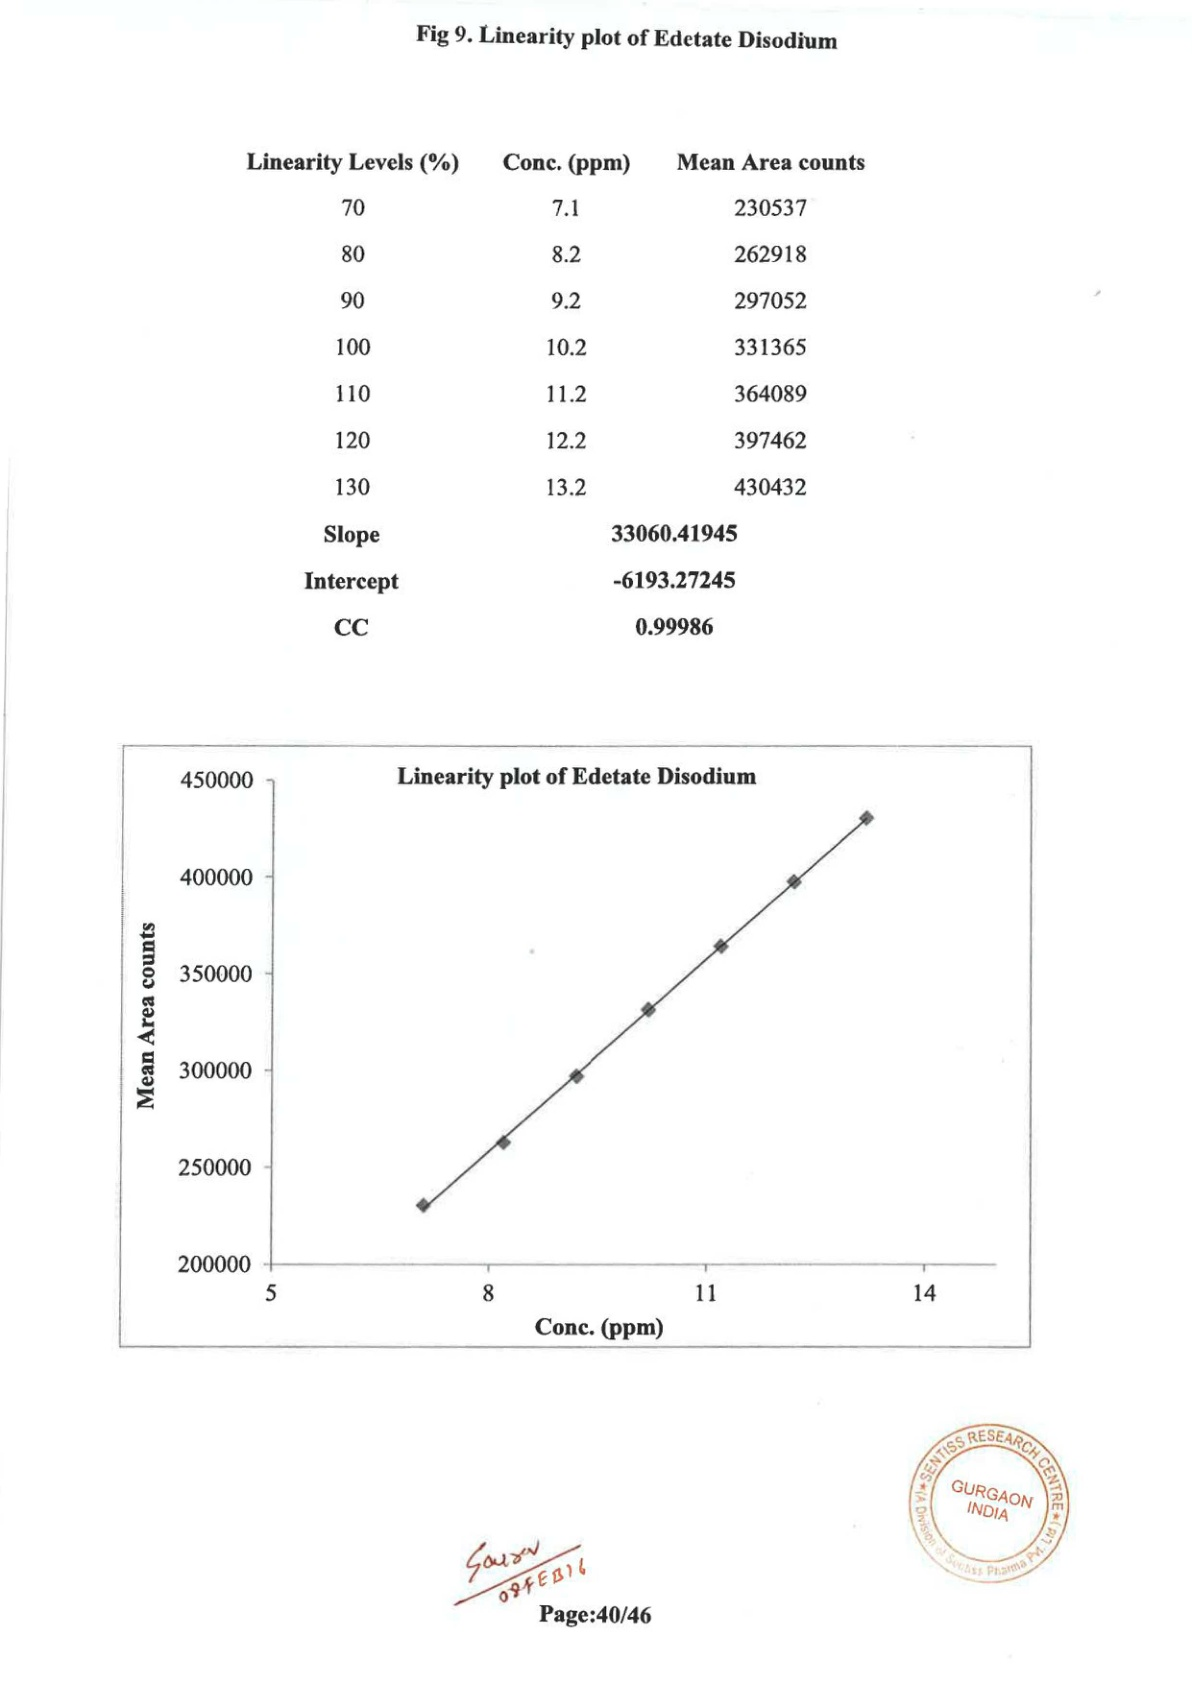nolines: (243, 147, 868, 642)
